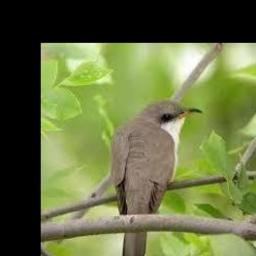Cuckoo: (108, 100, 203, 256)
